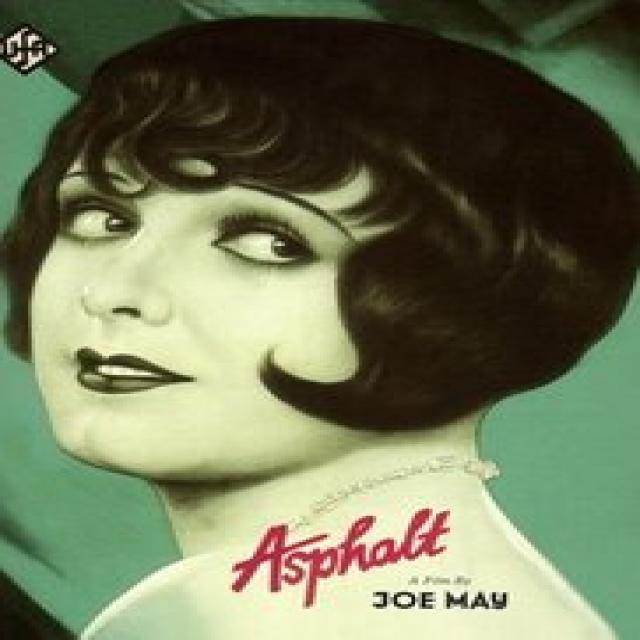movie-judul: (220, 502, 544, 624)
picture: (5, 6, 637, 632)
